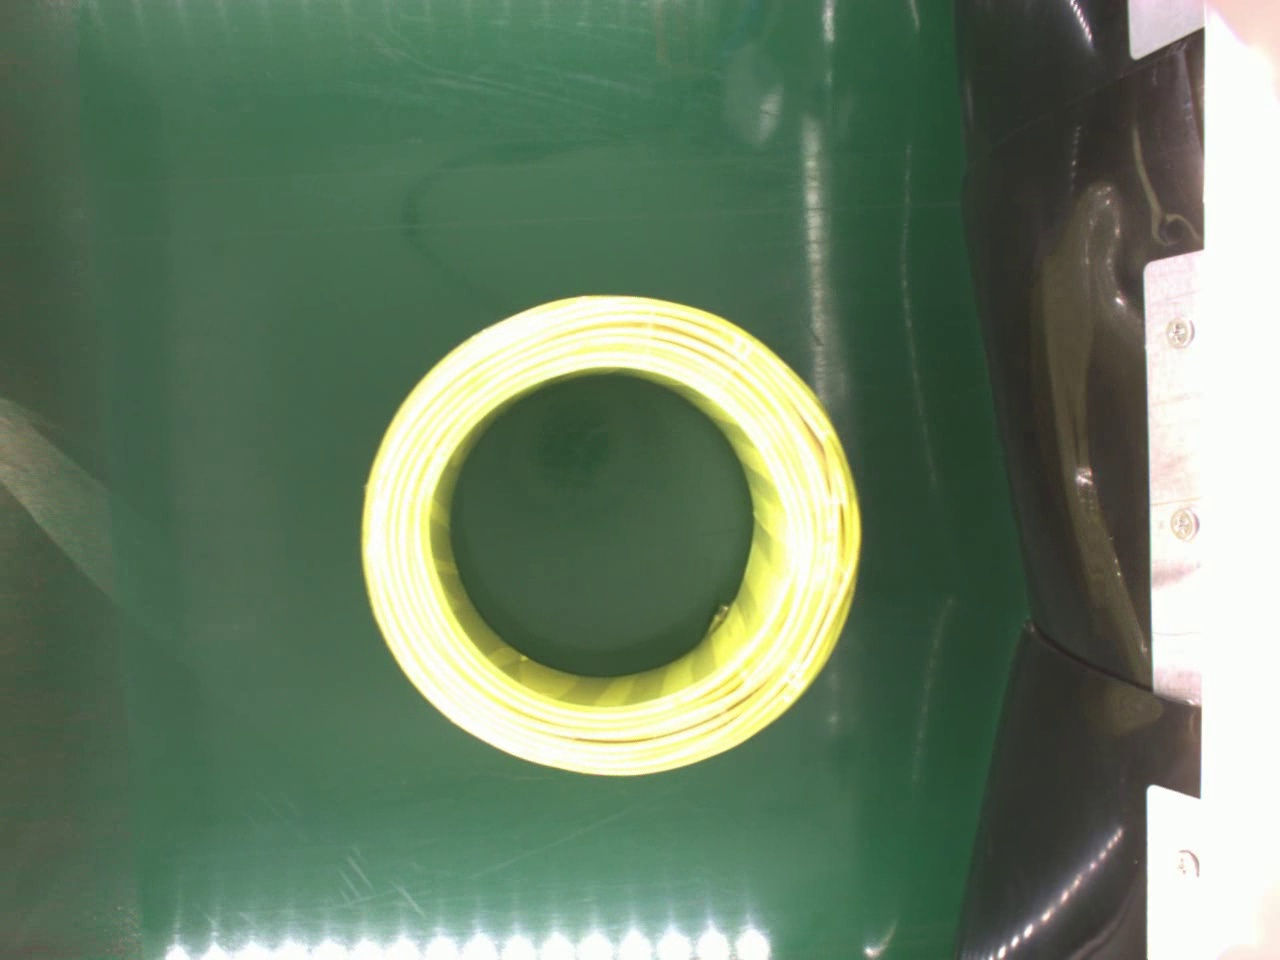yellow: (355, 293, 868, 781)
